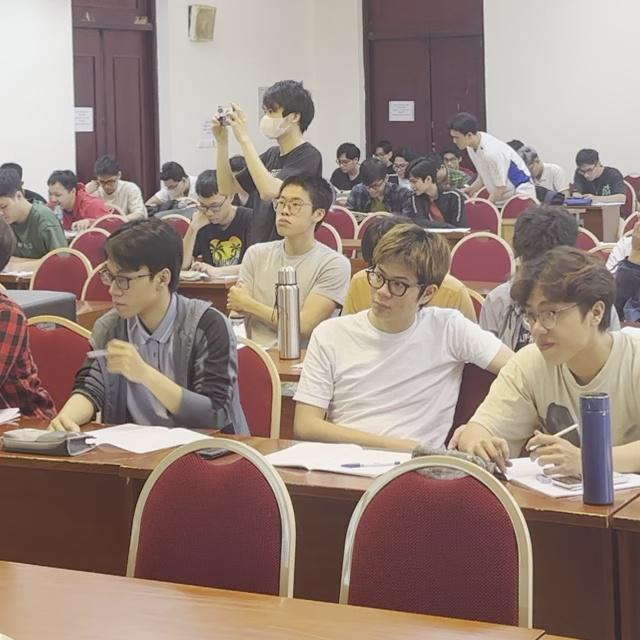Looking away: (0, 160, 49, 233), (99, 150, 144, 222), (184, 168, 237, 227), (32, 165, 80, 225), (351, 153, 390, 207), (449, 108, 490, 156), (408, 151, 439, 212), (328, 136, 361, 182), (441, 143, 473, 188), (519, 141, 547, 190), (166, 164, 195, 208), (389, 141, 419, 178), (570, 144, 595, 179)
Looking forward: (524, 301, 579, 367), (368, 262, 411, 321), (105, 265, 150, 320), (273, 191, 307, 236), (258, 100, 285, 142)
